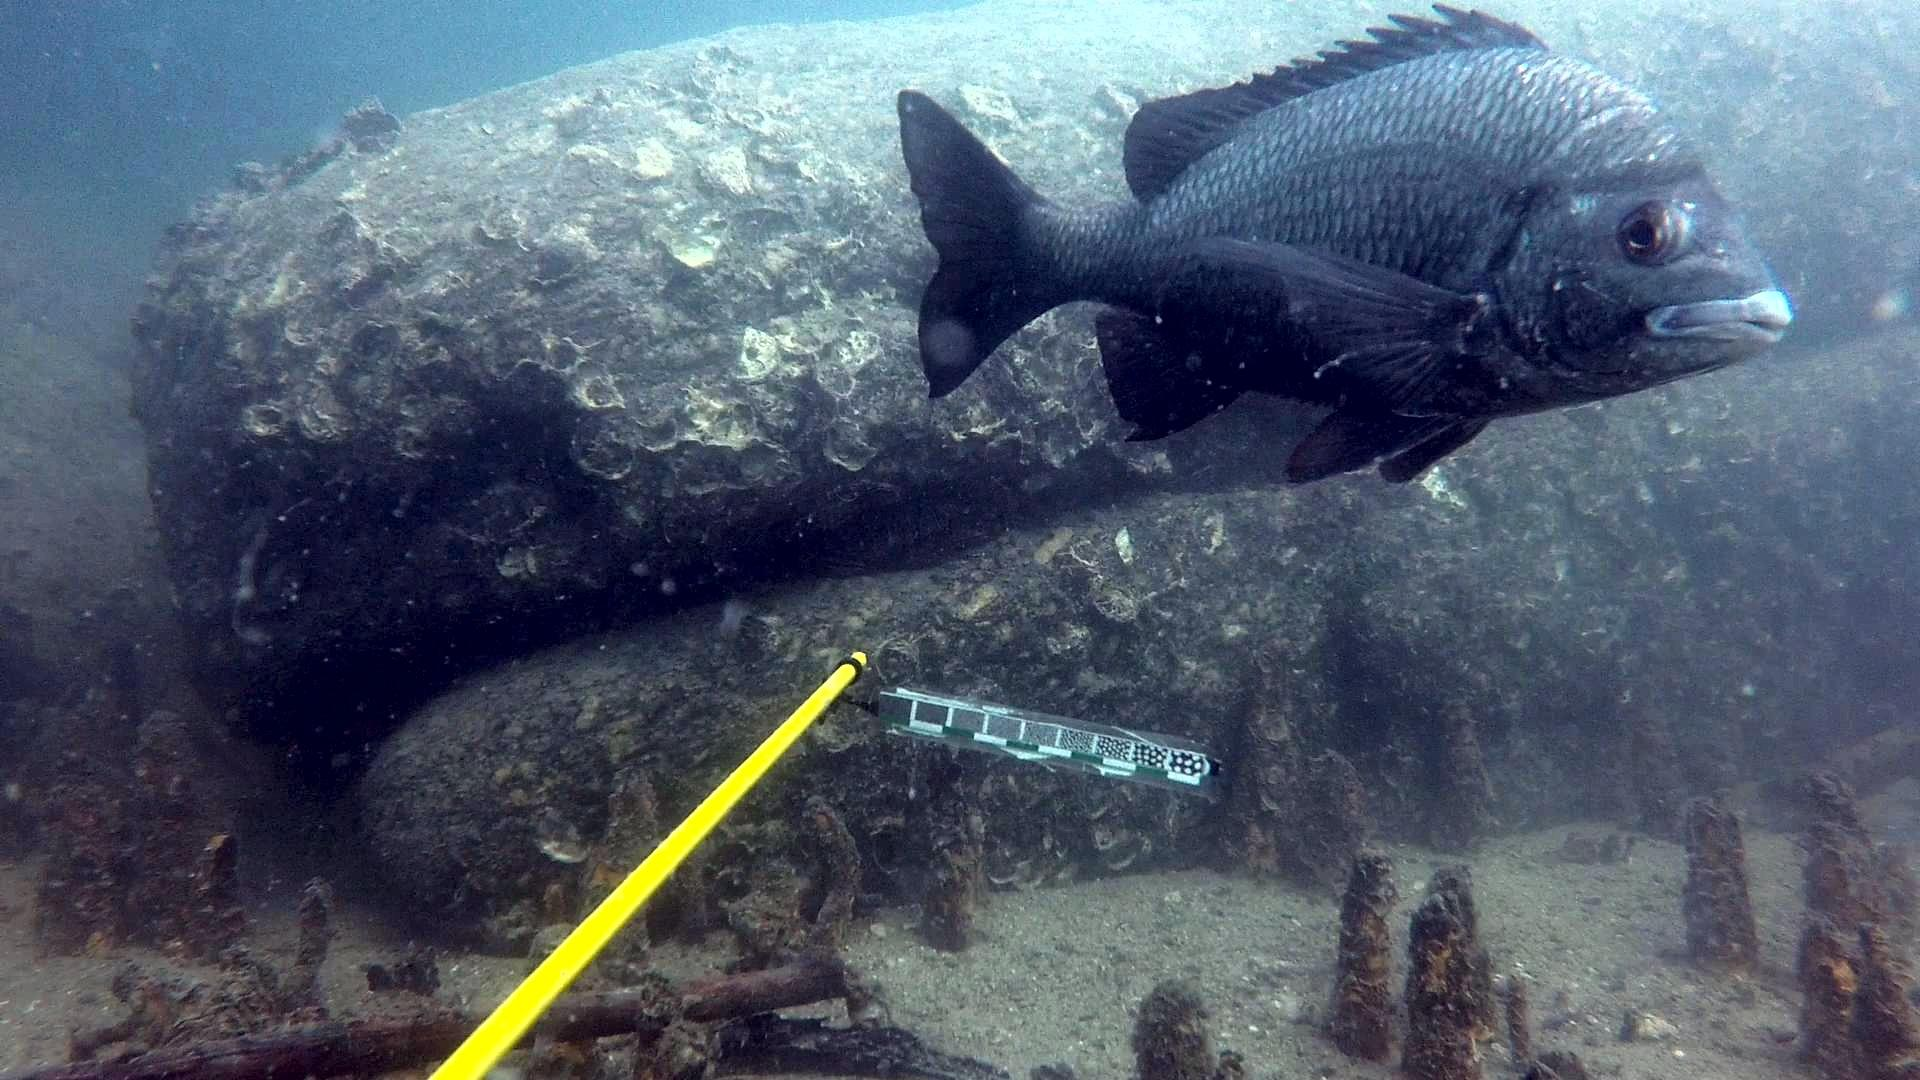acanthopagrus palmaris: (875, 0, 1797, 494)
